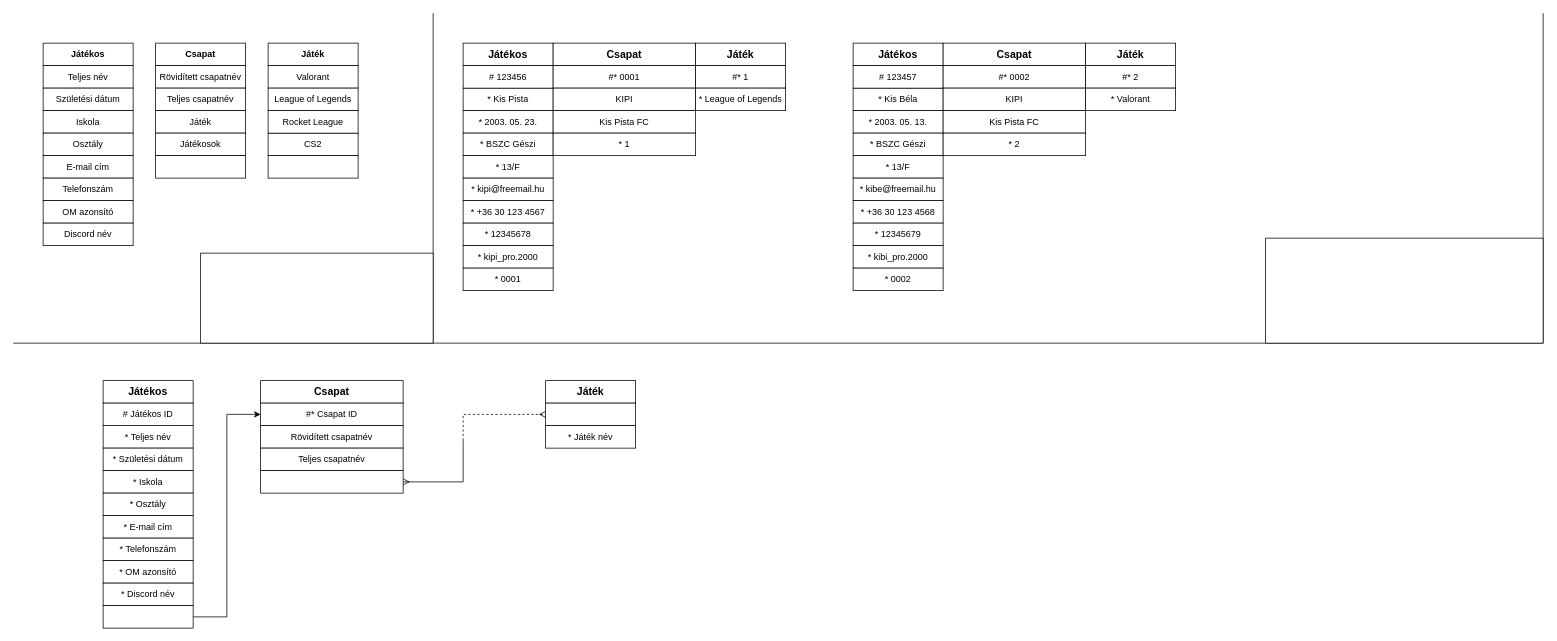
This 1557x641 diagram has some shape labels left out. Each missing label, with the box of its shape:
#* Játék ID: (545, 402, 636, 426)
* Csapat ID: (102, 605, 193, 628)
* Játék ID: (260, 470, 403, 493)
Egyedek: (200, 252, 433, 343)
Példa: (1265, 237, 1543, 343)
